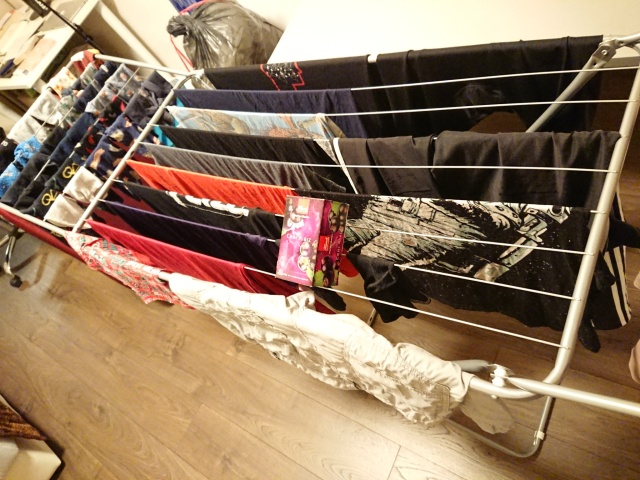Franck Black Currant Tea 60g: (273, 193, 352, 288)
